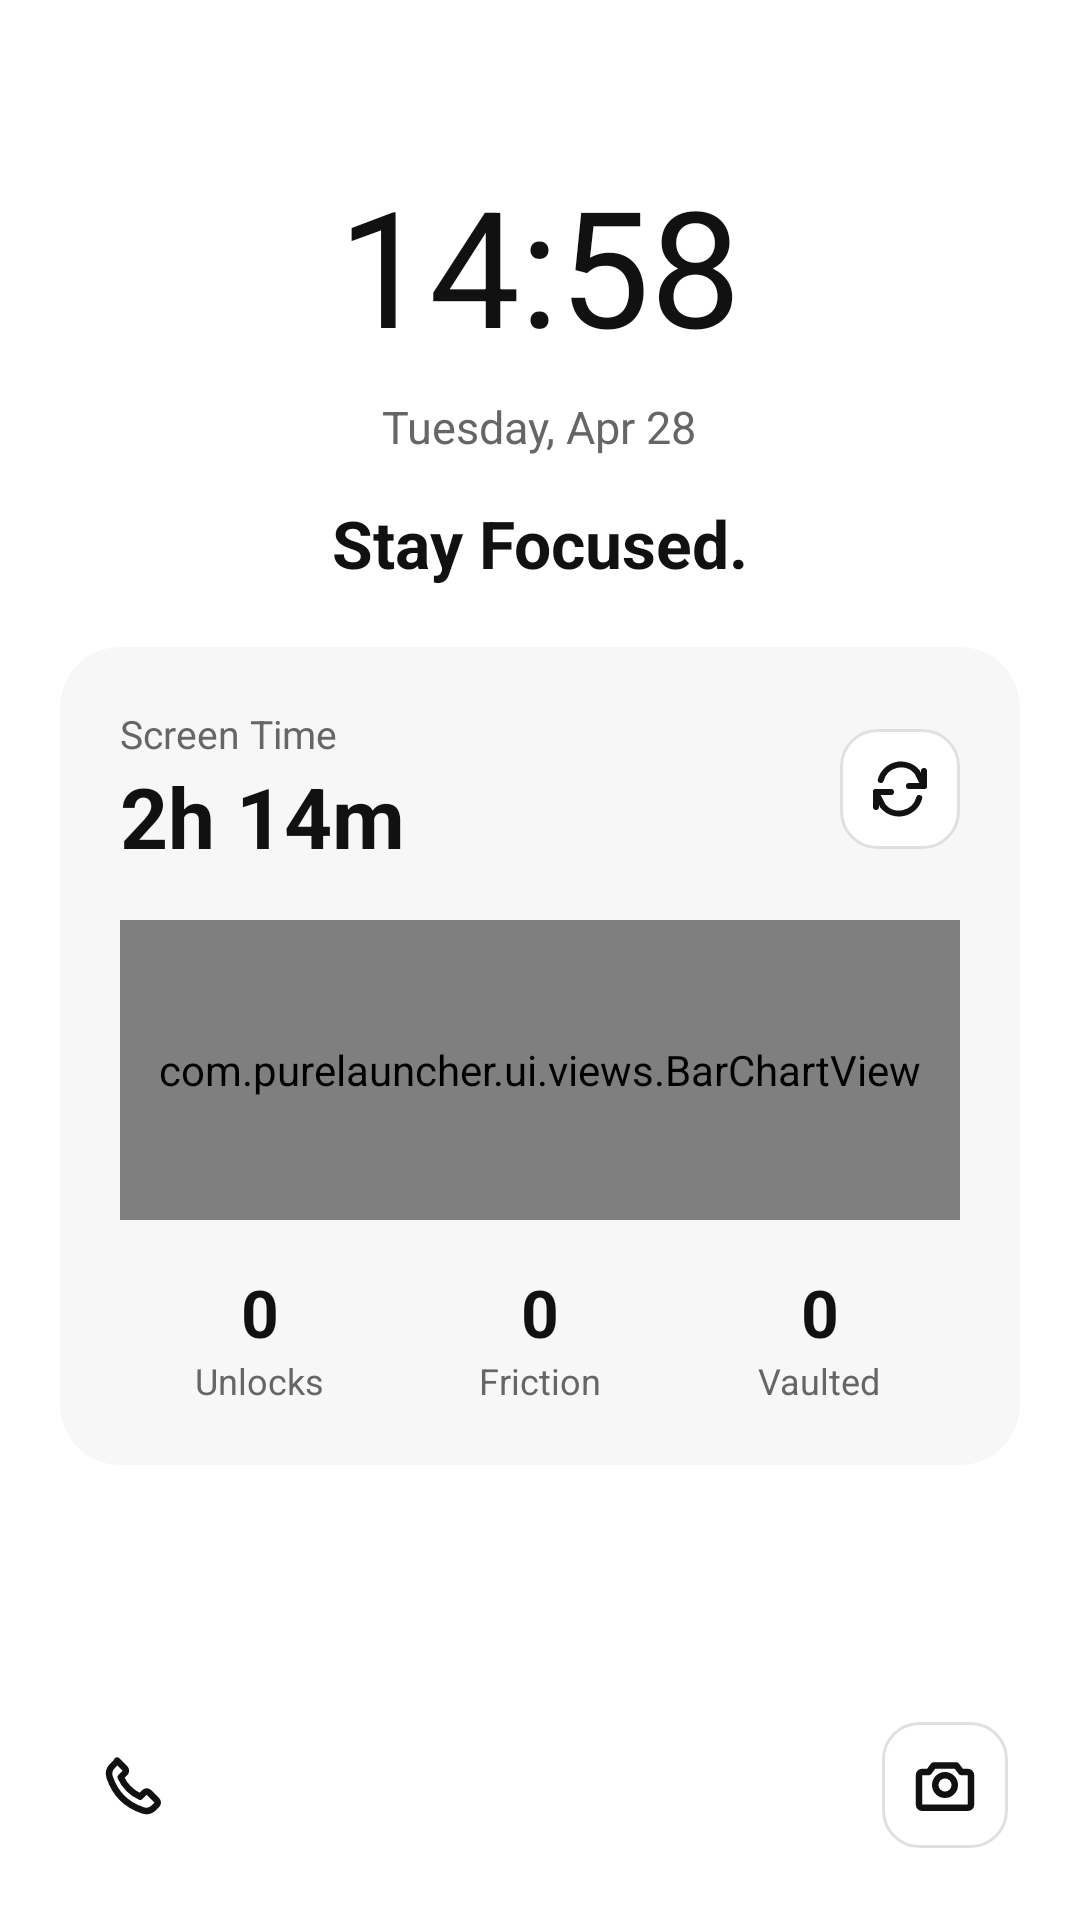

Locate icon controls on the screen. Image size 1080 x 1920, boxes as (x1, y1, x2, y2).
Open camera app: (882, 1722, 1008, 1848)
Open phone app: (105, 1757, 161, 1815)
Reload screen time: (840, 729, 960, 849)
